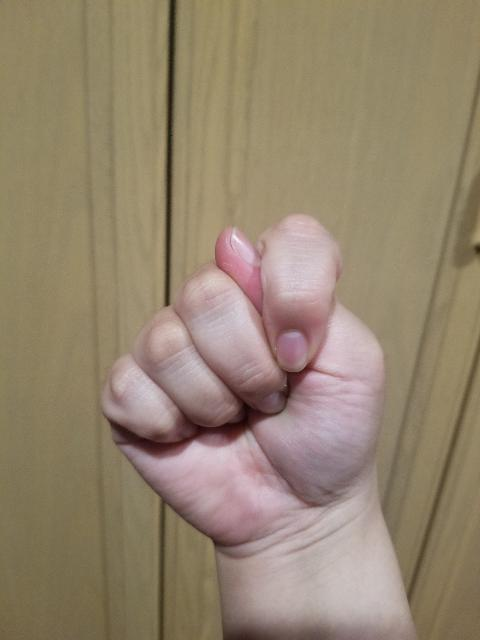T: (90, 208, 396, 558)
